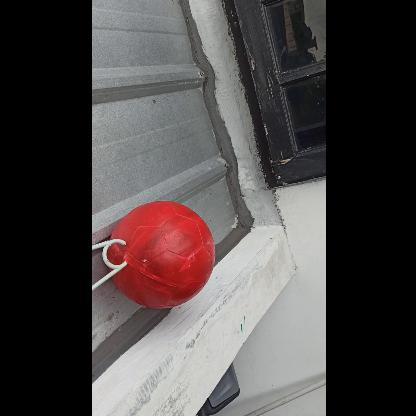red_ball: (108, 203, 212, 308)
